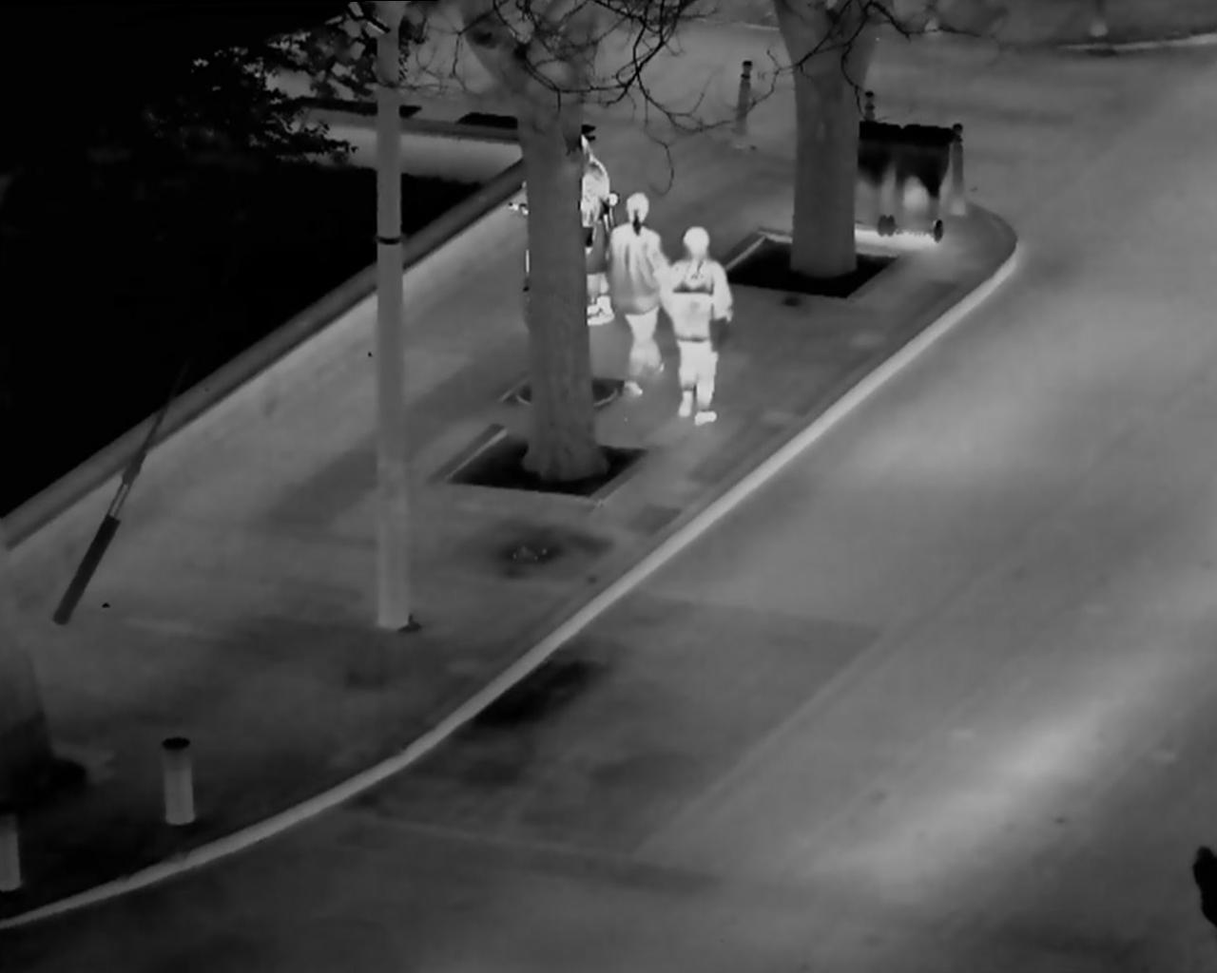person: (599, 187, 673, 406), (670, 213, 738, 446), (583, 136, 618, 327)
